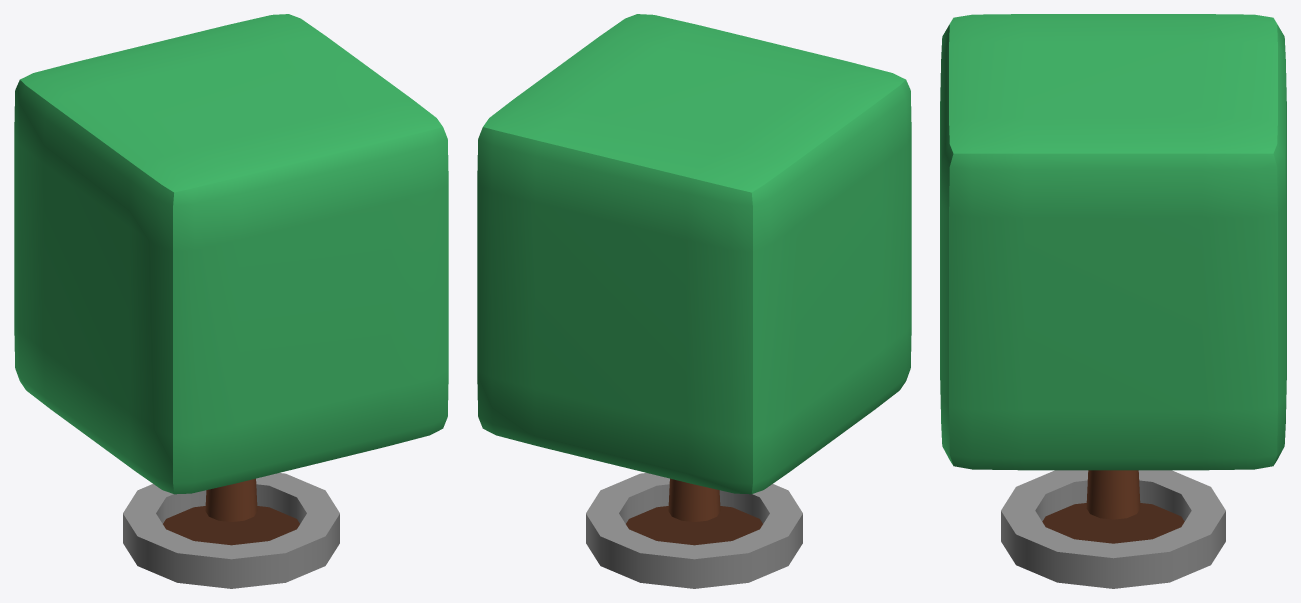
File: Tree_3.fbx
The picture shows the model from 3 angles, left to right: view 1: azimuth 30°, elevation 25°; view 2: azimuth 150°, elevation 25°; view 3: azimuth 270°, elevation 25°; orthographic projection. The views are drawn at different scales.
Parts seen in each view (by area): view 1: Cylinder.004; view 2: Cylinder.004; view 3: Cylinder.004.
Boxes of the visible parts, left/top/right/bottom form: Cylinder.004: left=14, top=14, right=448, bottom=588; Cylinder.004: left=477, top=14, right=911, bottom=588; Cylinder.004: left=940, top=14, right=1286, bottom=588.
Size of the model in its own units: 579 by 850 by 579.
